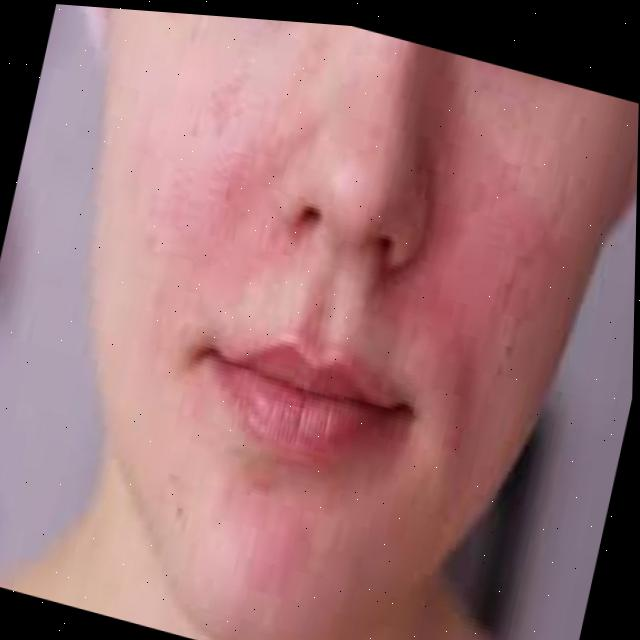Rosacea: (82, 16, 289, 361), (408, 143, 549, 384), (225, 491, 326, 593)
